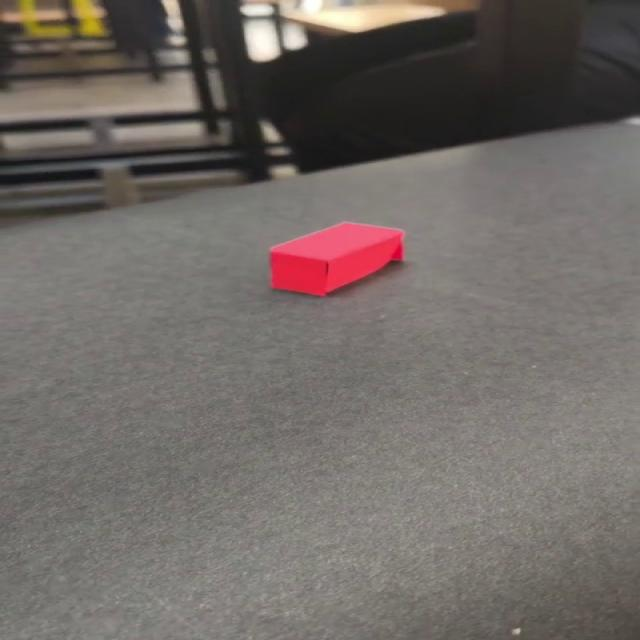red block: (267, 220, 405, 297)
